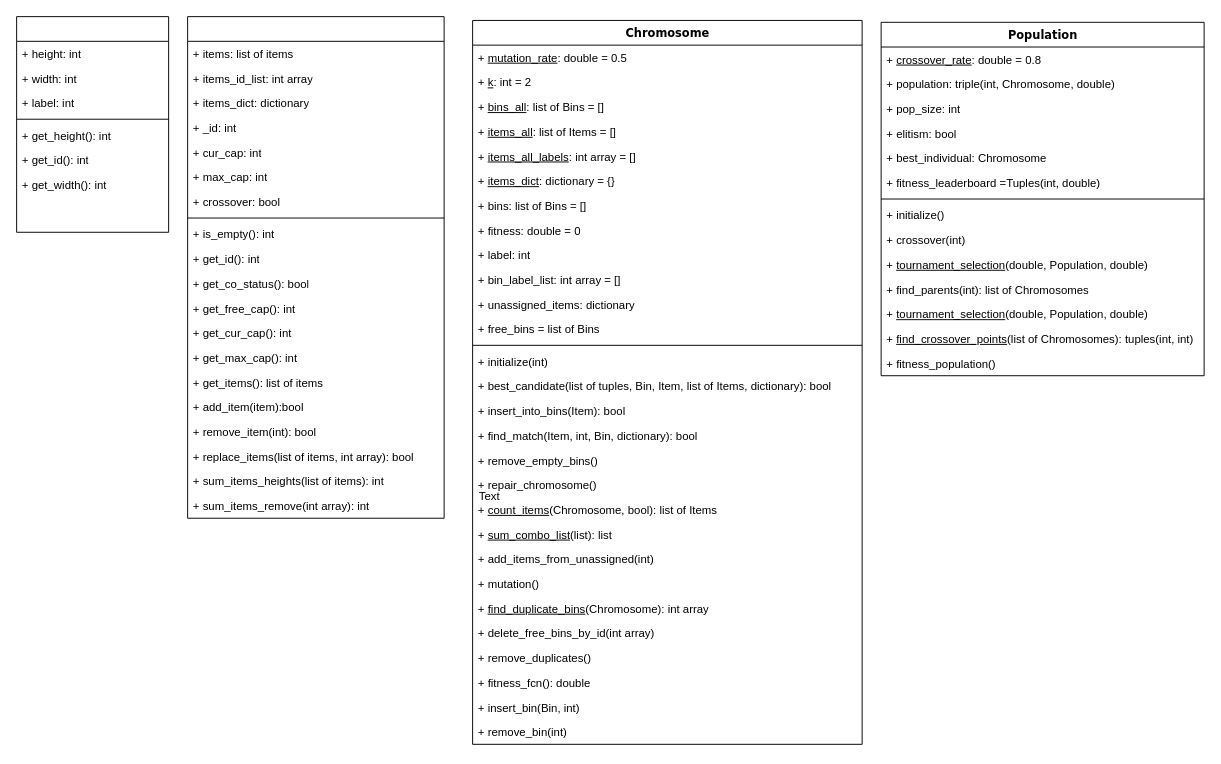
Some shapes in this 1221 by 764 pixel diagram are drawn without their labels. Each missing label, with the box of its shape:
Bin: (187, 16, 444, 518)
Item: (16, 16, 169, 232)
